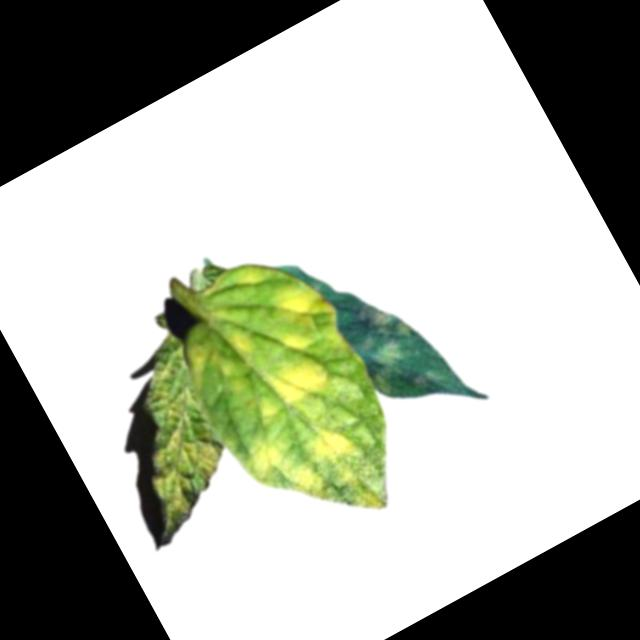Leaf_Mold: (84, 329, 259, 529), (272, 419, 390, 544), (337, 287, 433, 396), (233, 344, 336, 433), (253, 273, 346, 361), (197, 322, 263, 384), (234, 428, 288, 486)
